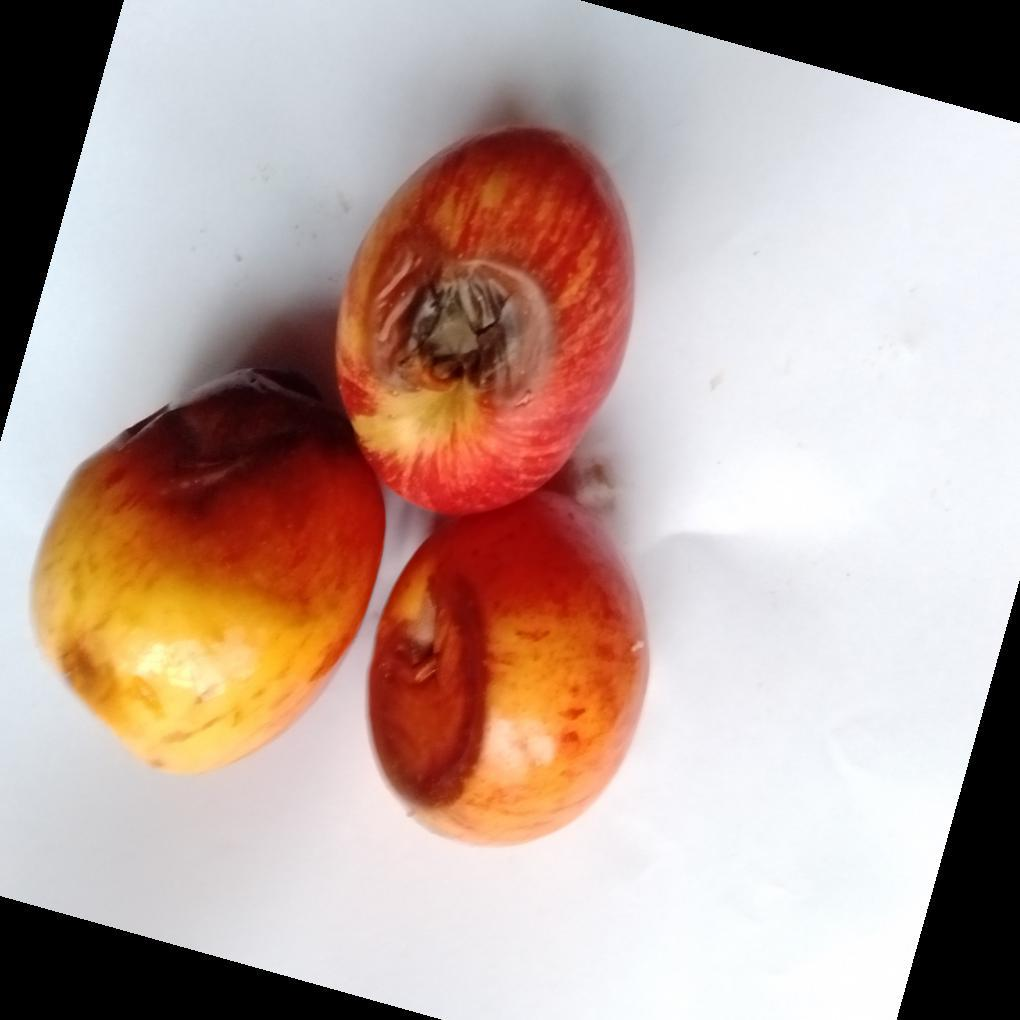FreshOrange: (28, 129, 650, 850)
